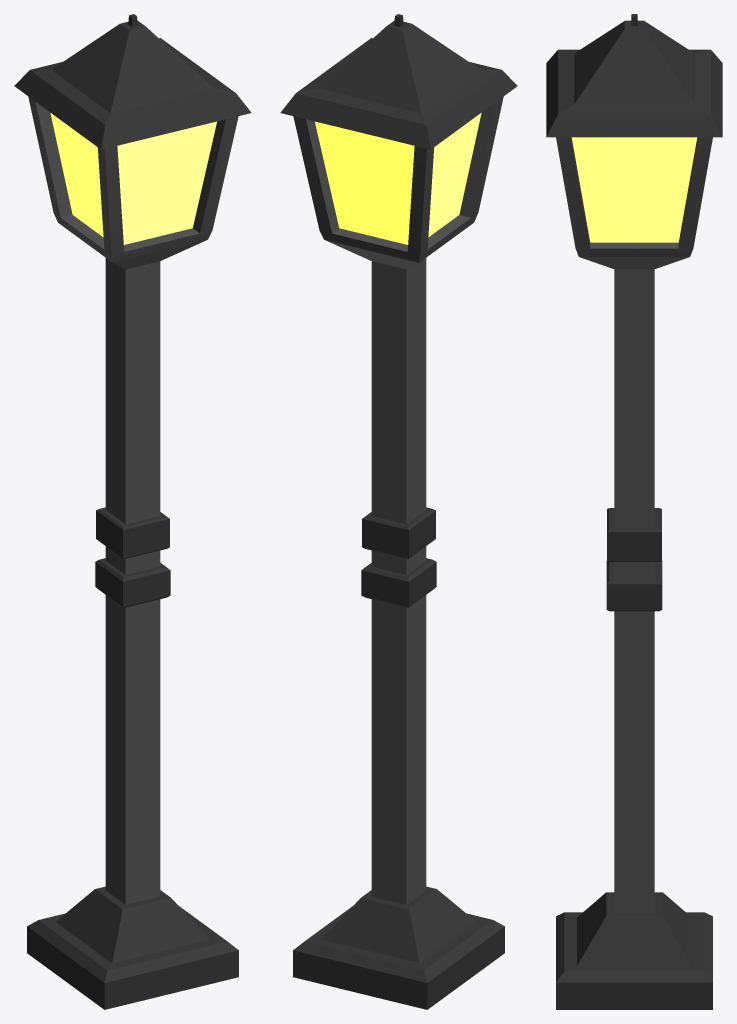
Rendered from mdl_poland_lantern.gltf.
3 renders of one model, left to right at view 1: azimuth 30°, elevation 25°; view 2: azimuth 150°, elevation 25°; view 3: azimuth 270°, elevation 25°, orthographic.
Visible parts, largest first — view 1: Cube.039, Cube.040; view 2: Cube.039, Cube.040; view 3: Cube.039, Cube.040.
Boxes of the visible parts, x1=… form: Cube.039: x1=27, y1=96, x2=238, y2=1009; Cube.040: x1=14, y1=14, x2=251, y2=149; Cube.039: x1=293, y1=96, x2=504, y2=1009; Cube.040: x1=280, y1=14, x2=517, y2=149; Cube.039: x1=556, y1=137, x2=712, y2=1009; Cube.040: x1=546, y1=14, x2=722, y2=137.
Bounding box in the file's own units: 0.4485 × 2.7 × 0.4485.
3 materials, 2 textured.
